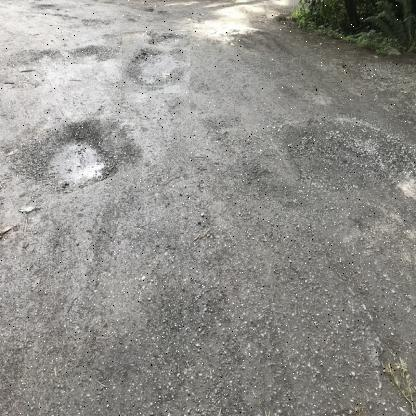damage: (121, 31, 190, 94)
pothole: (22, 108, 156, 214)
